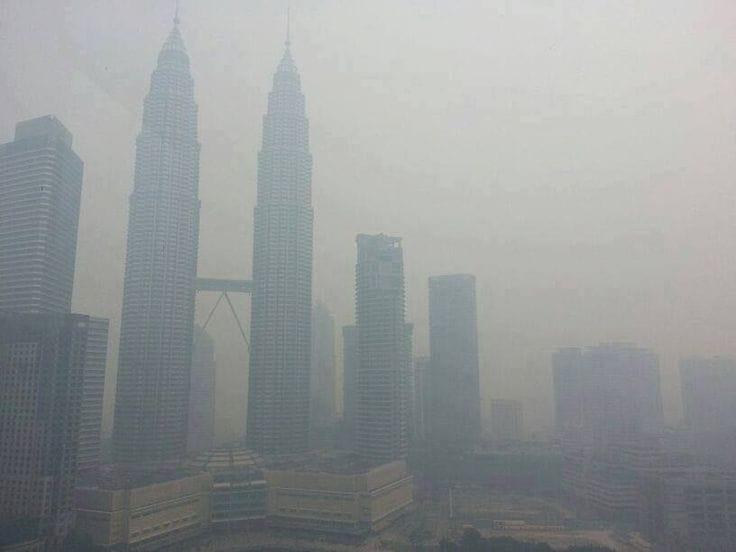Deteksi-Objek-Citra-Berasap: (0, 0, 736, 552)
Gedung: (108, 8, 202, 475), (74, 443, 413, 550), (248, 13, 317, 466), (0, 311, 109, 551), (550, 344, 662, 522), (0, 115, 84, 315), (350, 233, 409, 468), (425, 274, 482, 476), (679, 357, 736, 521)
